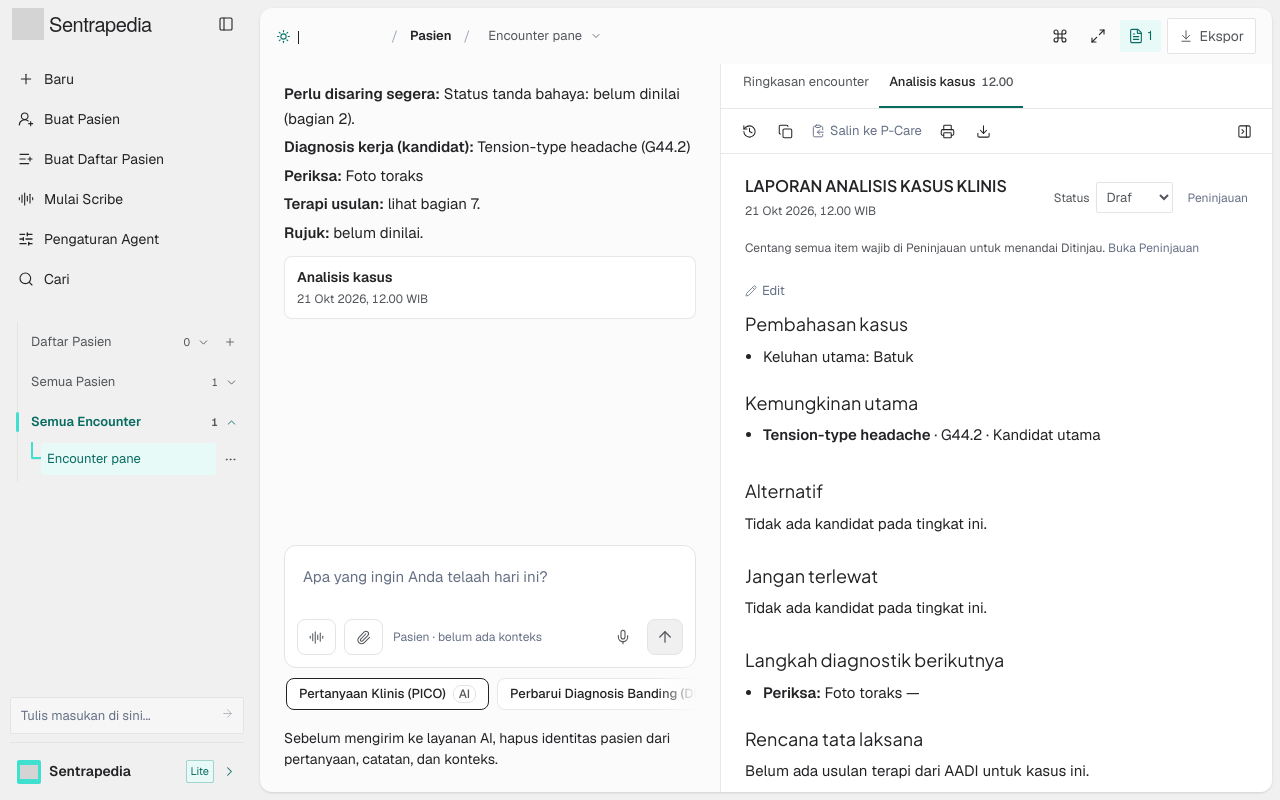
Test: the document pane › Buat in Ringkasan encounter keeps what the doctor was typing in the composer
The width and height of the screenshot is (1280, 800).
Click the tab "Ringkasan encounter" at (806, 90), box [733,72,879,108]
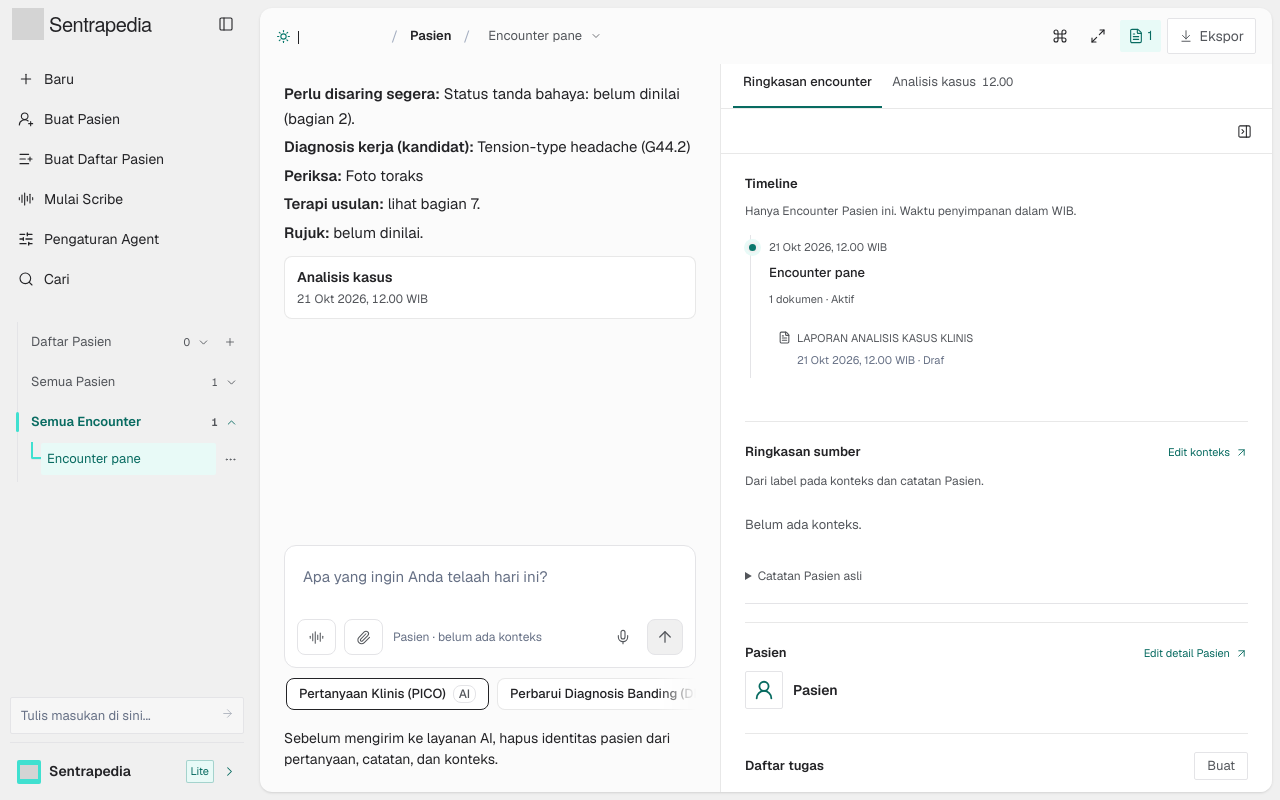
Type "Pertanyaan yang sedang diketik" into the text box named "Pertanyaan atau catatan klinis" at (490, 586), box [297,560,683,612]
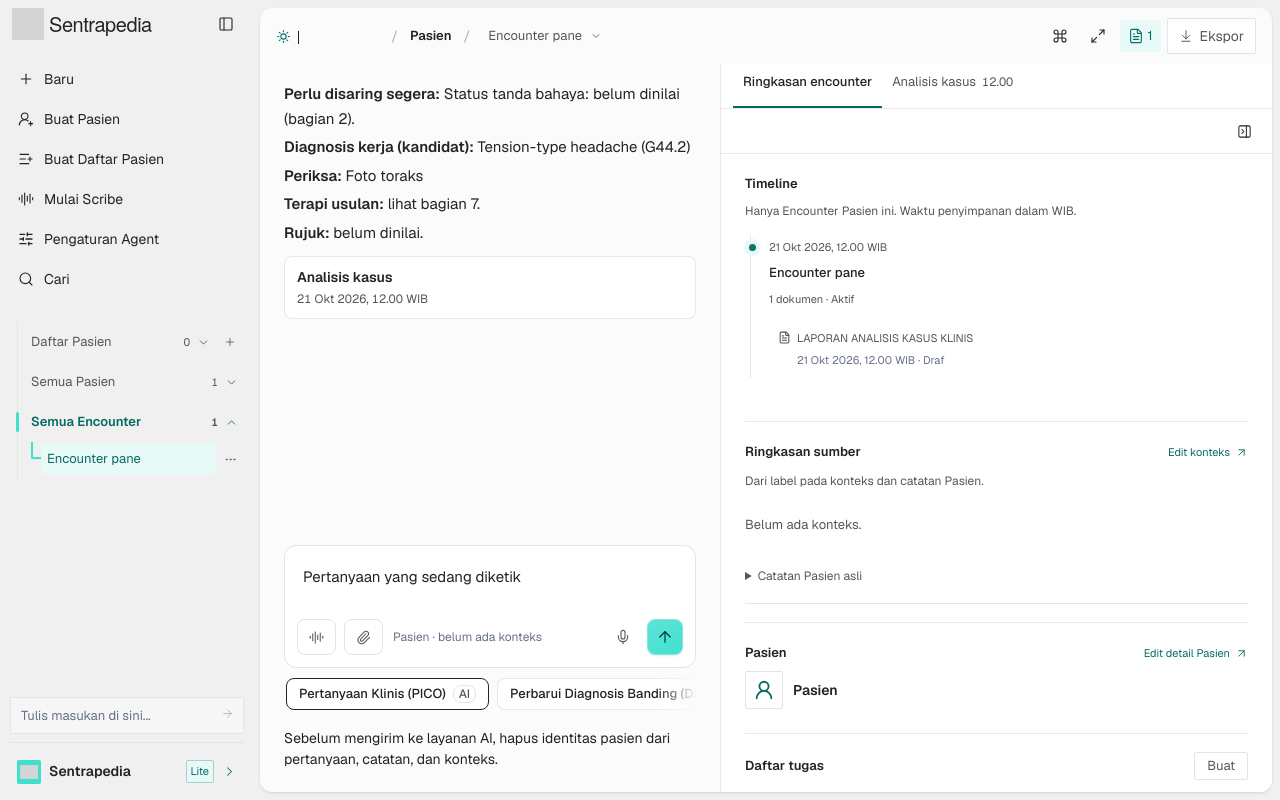
Click the button "Buat" at (1221, 766), box [1194,752,1248,780]
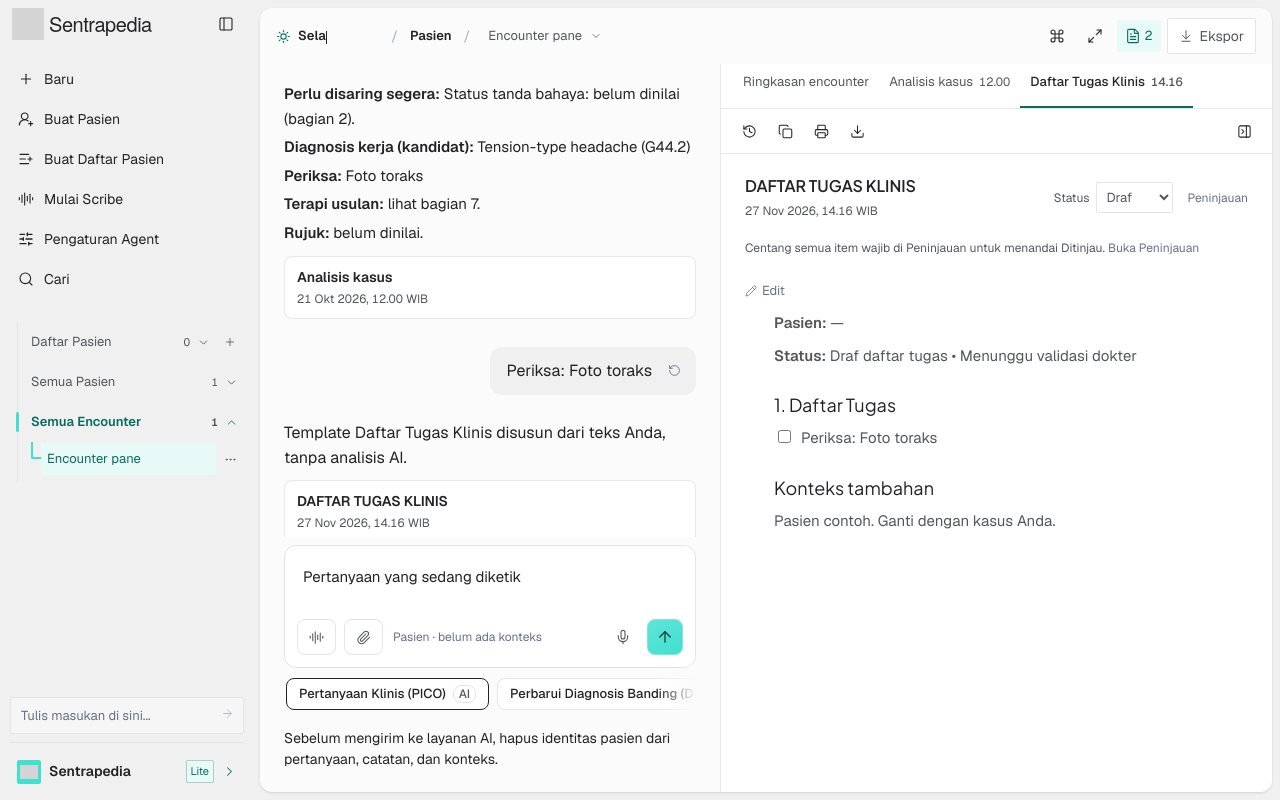
Expected: the tab "Daftar Tugas Klinis 14.16" is shown, [1020,72,1193,108]
